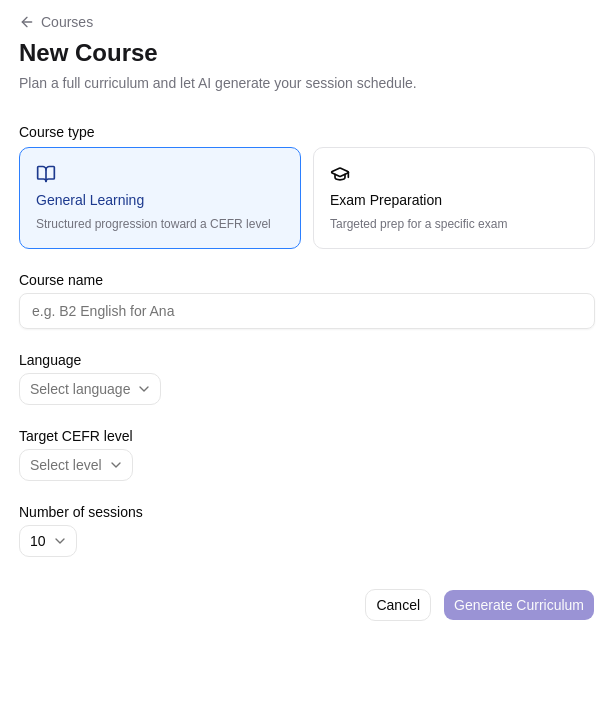
Test: CourseNew wizard › template filtering by CEFR level › shows only A1 templates when A1 is selected
Click the dropdown with test id "cefr-select": (76, 465) [19,449,133,481]
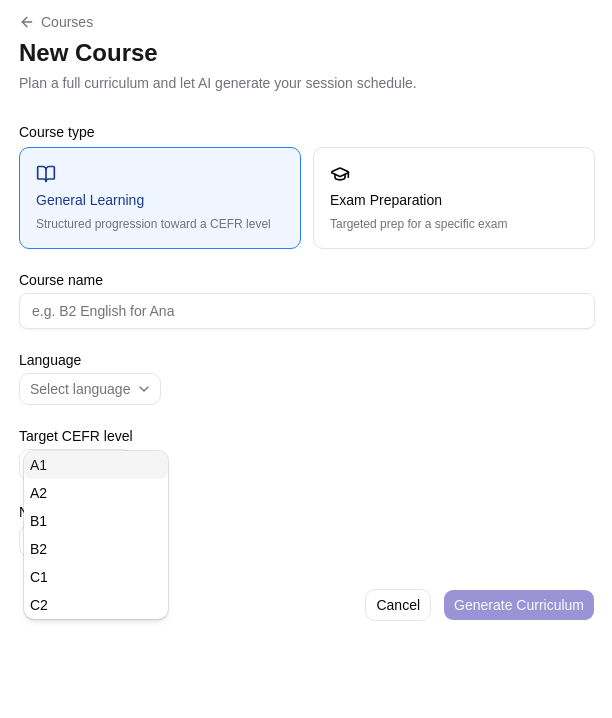
Click the option "A1": (96, 465) [24,451,168,479]
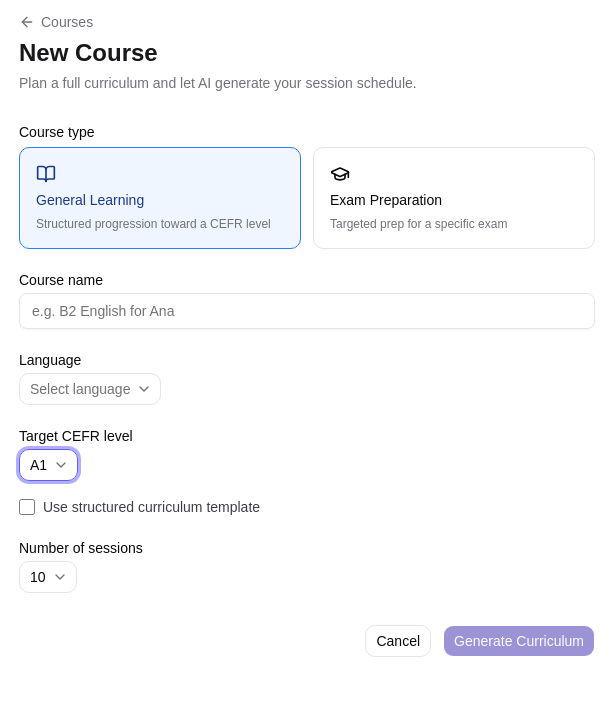
Click the checkbox with test id "use-template-checkbox": (27, 507) [19,499,35,515]
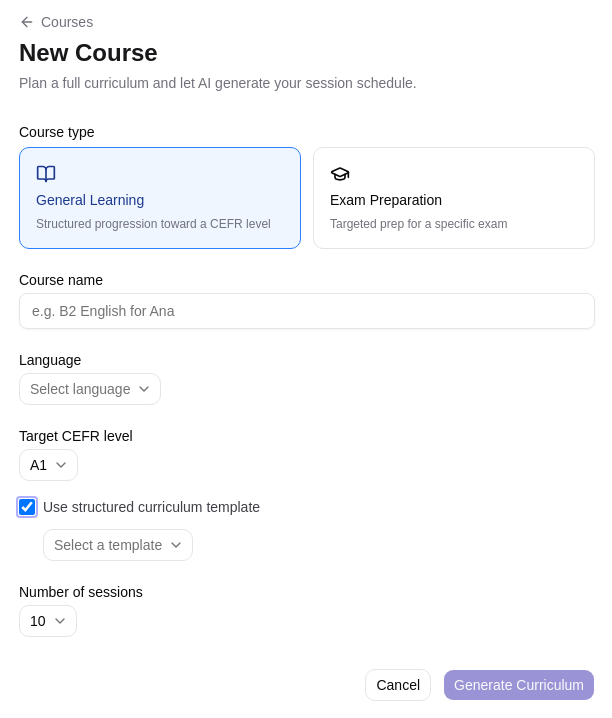
Click the dropdown with test id "template-select": (118, 545) [43,529,193,561]
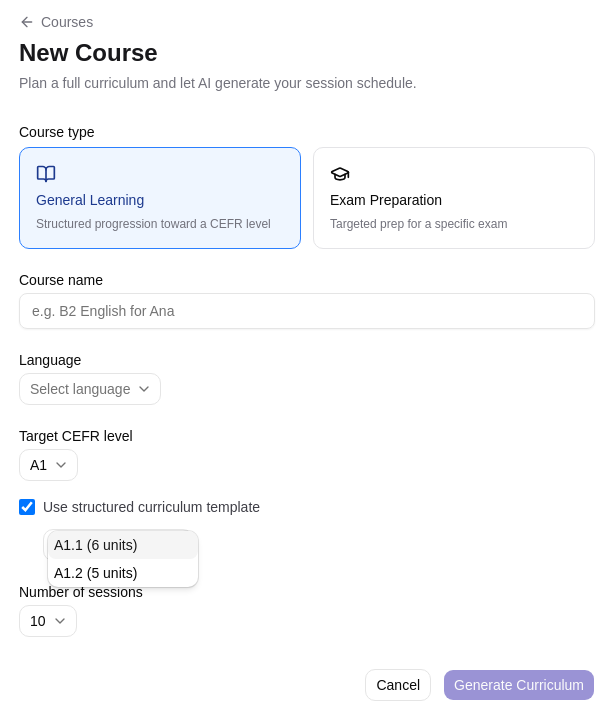
Now the option "A1.1 (6 units)" is shown, box [48,531,198,559]
Now the option "A1.2 (5 units)" is shown, box [54,565,137,581]
